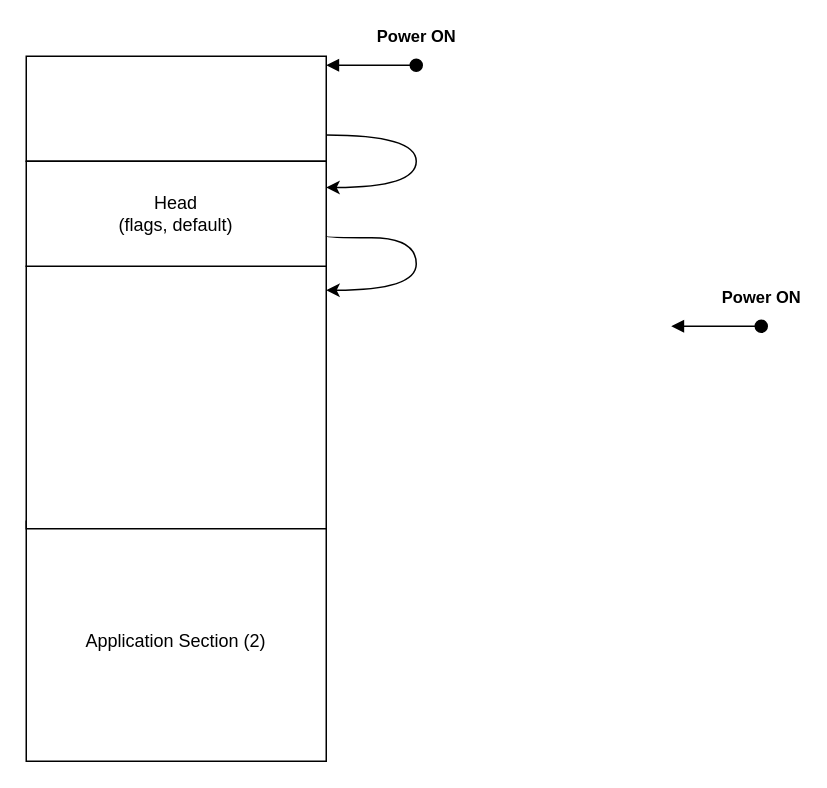
The diagram is 827 pixels wide and 788 high, and some of its shapes have lost their labels. The shapes that lost their labels are listed below. From the top down, each one's box as (x1, y1, x2, y2) in pixels, then its label:
(25, 55, 326, 161): Bootloader Section (Boot gateway)
(25, 265, 326, 529): Application Section (1)
